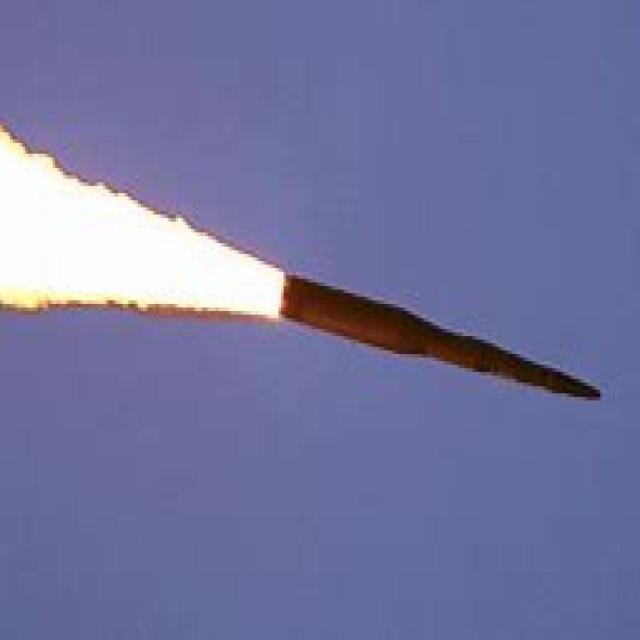missile: (270, 267, 603, 422)
